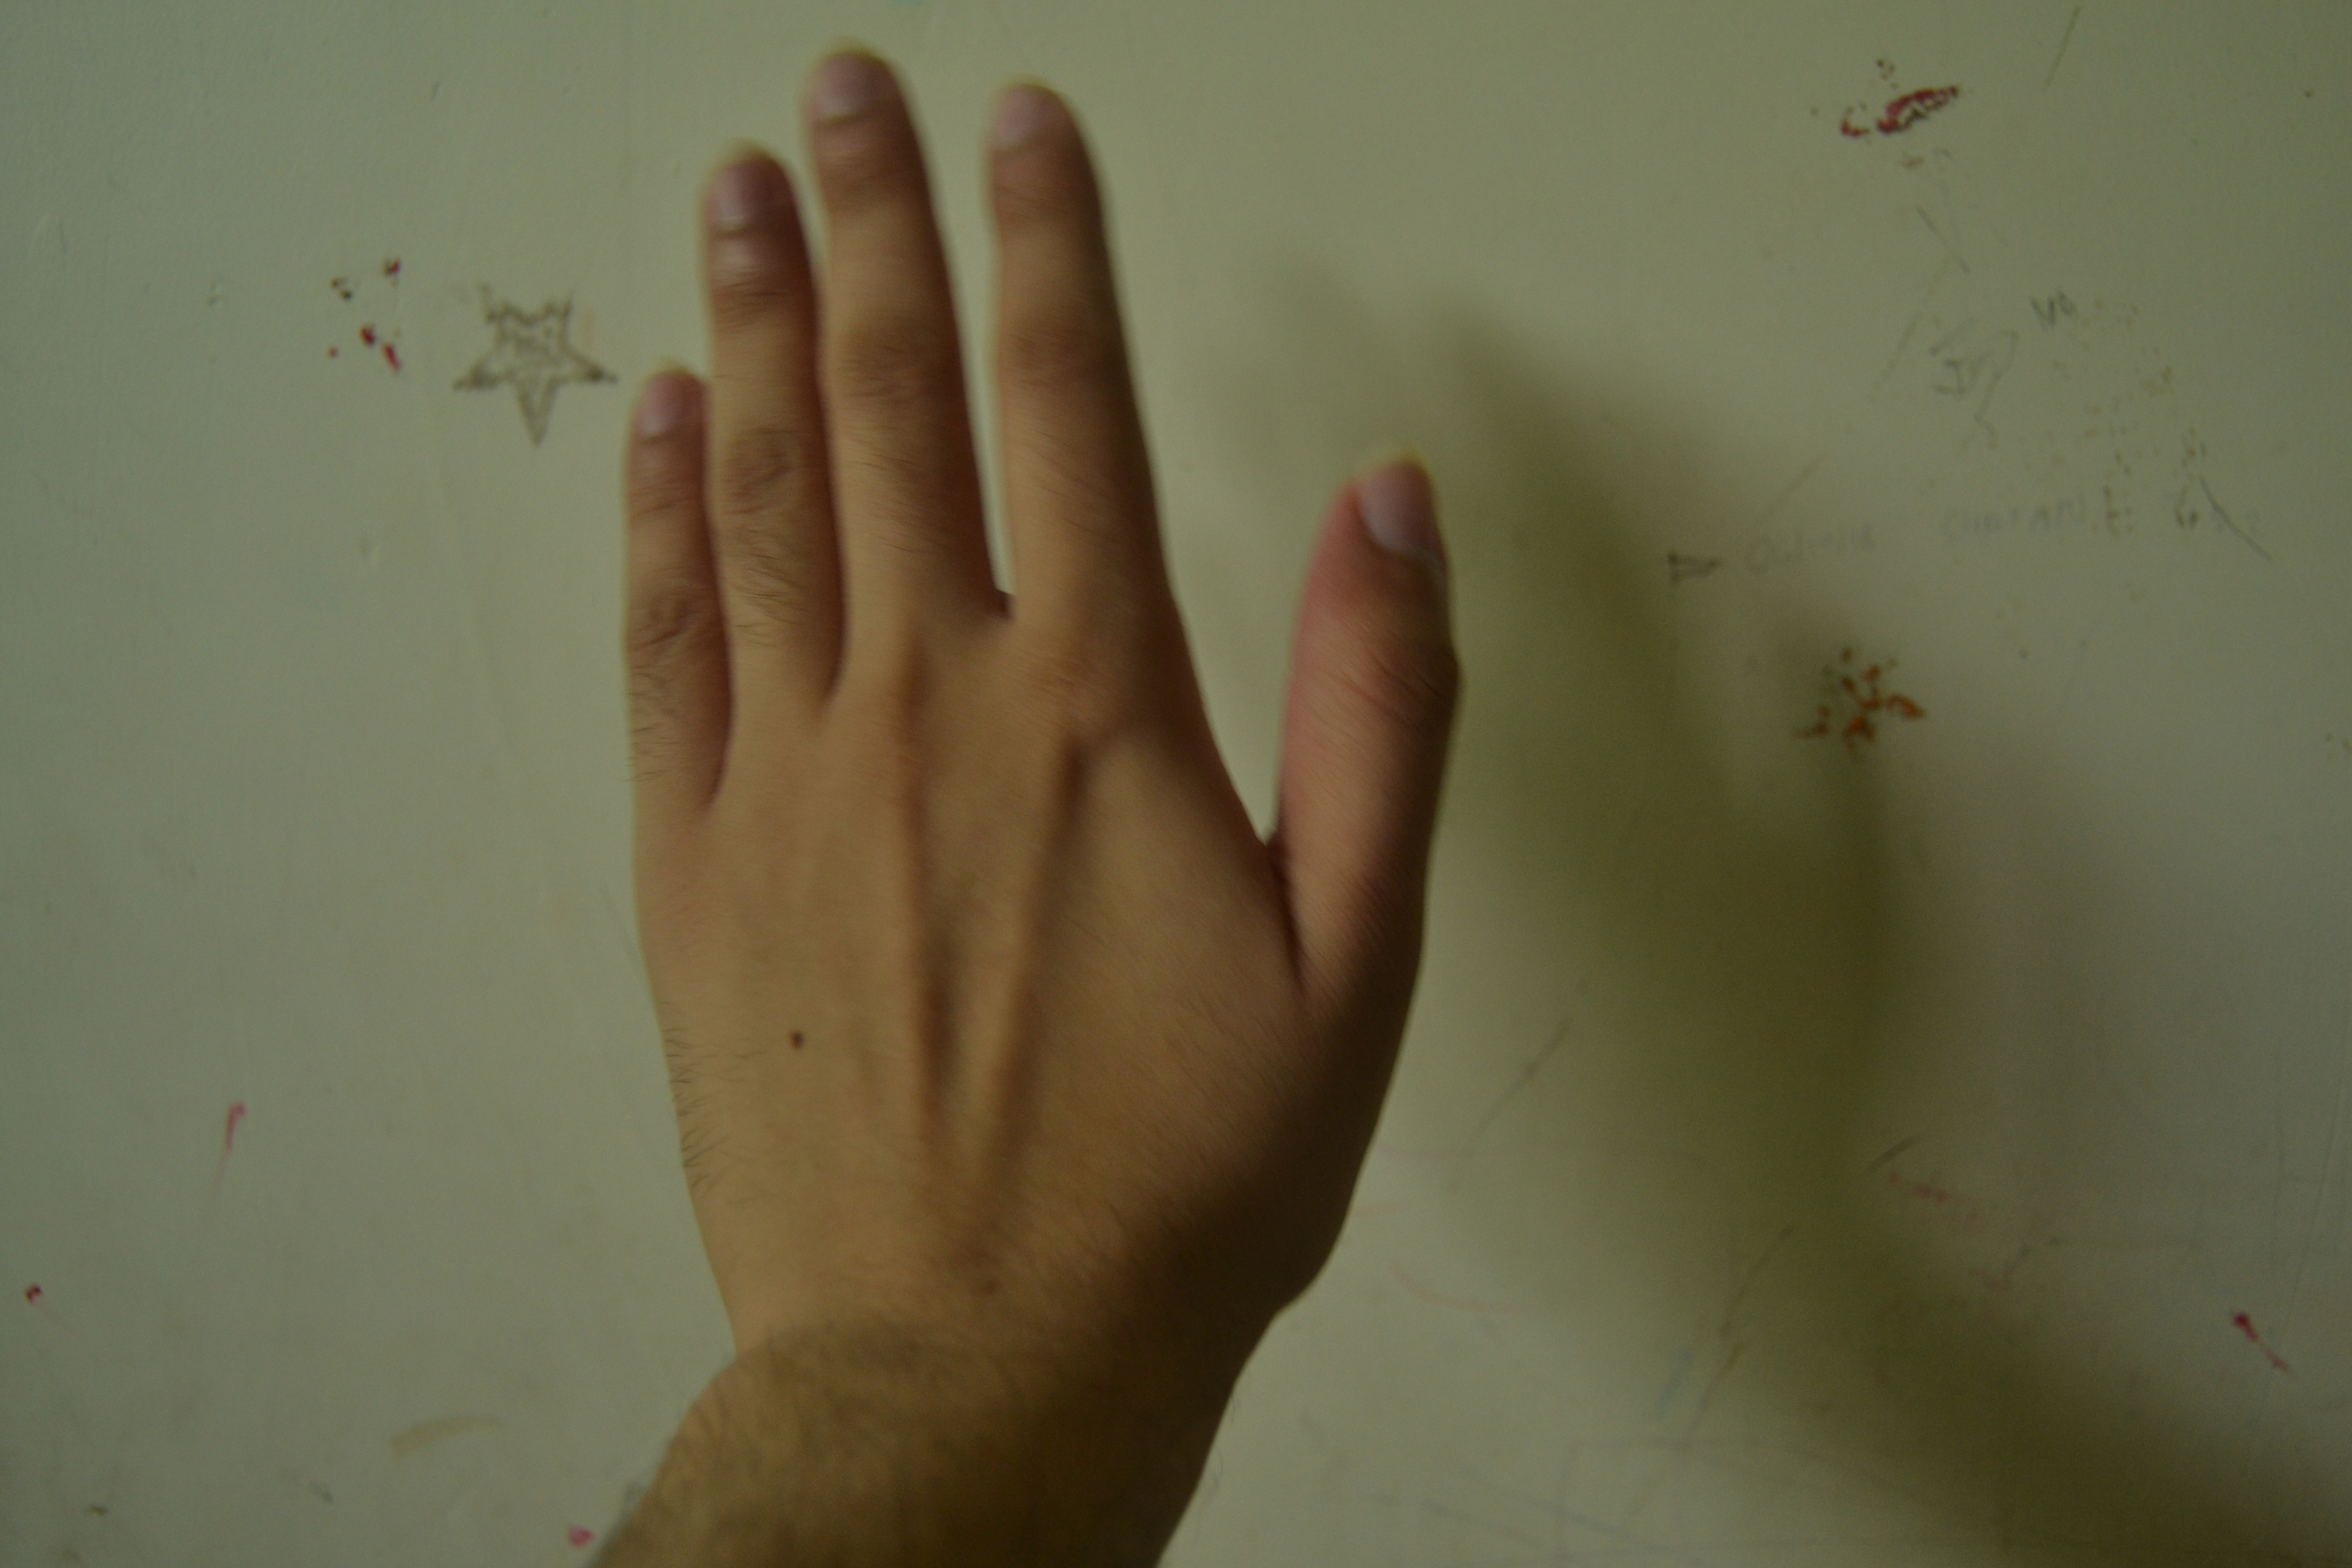move: (621, 38, 1517, 1438)
